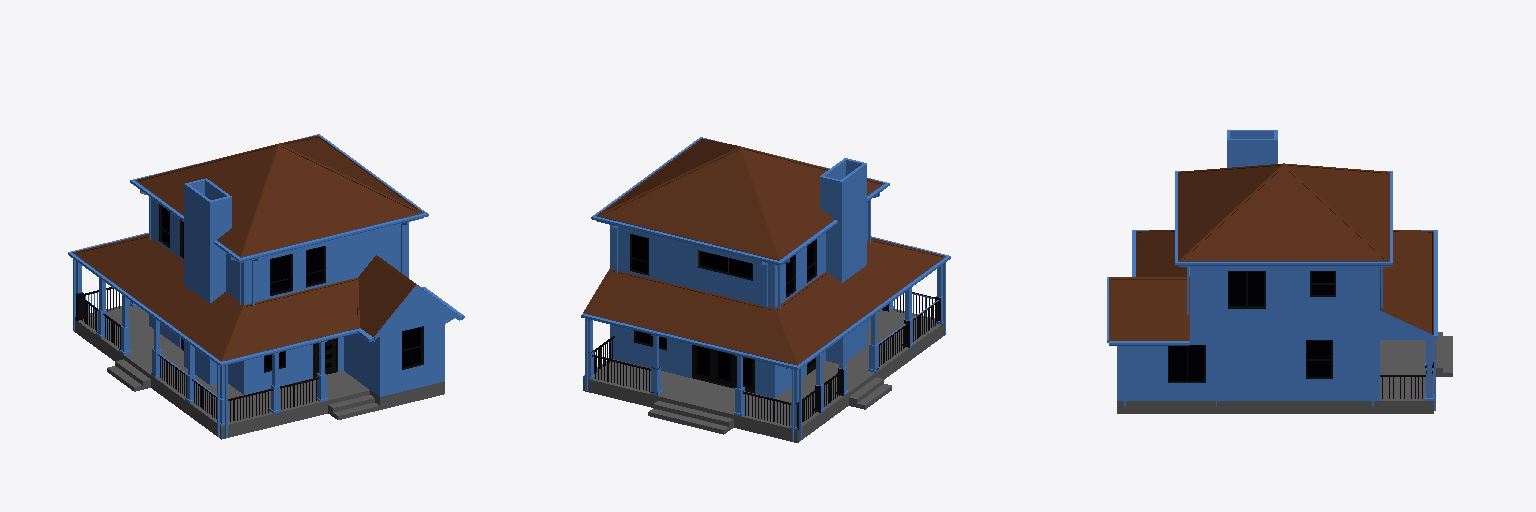
File: bighouse.obj
3 views of the same model, side by side, from view 1: azimuth 30°, elevation 25°; view 2: azimuth 150°, elevation 25°; view 3: azimuth 270°, elevation 25° (orthographic).
Visible parts, largest first — view 1: house; view 2: house; view 3: house.
Part boxes in pixels (left/top/right/bottom): house: left=68, top=134, right=464, bottom=439; house: left=581, top=137, right=950, bottom=442; house: left=1107, top=130, right=1452, bottom=413.
Size of the model in its own units: 358 by 292 by 436.